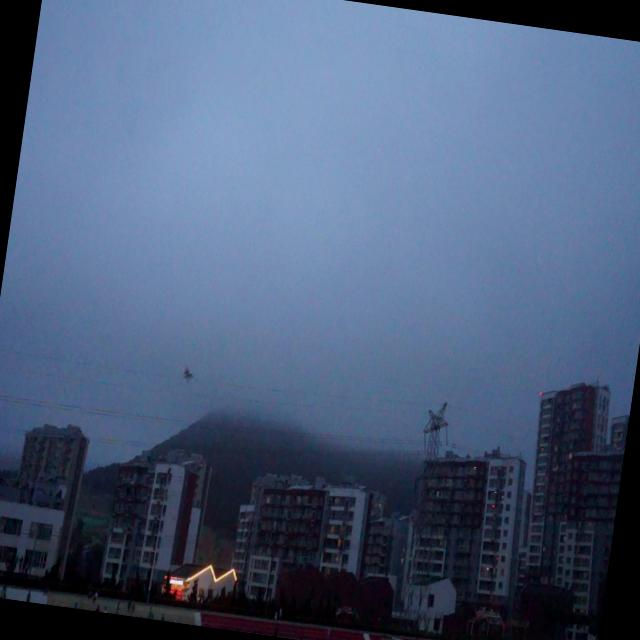drone: (180, 360, 198, 388)
